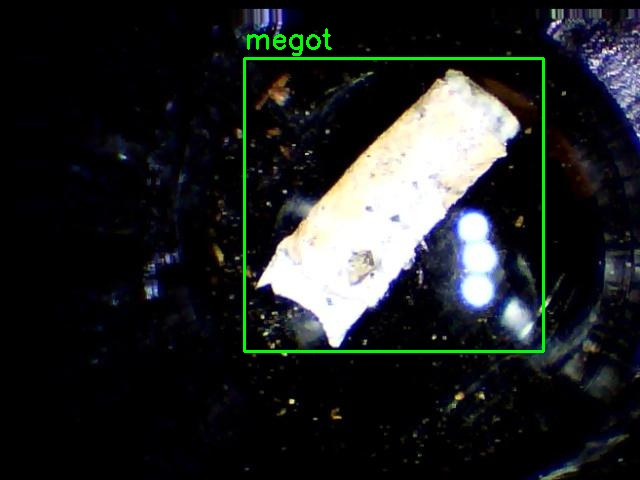megot: (244, 58, 543, 351)
